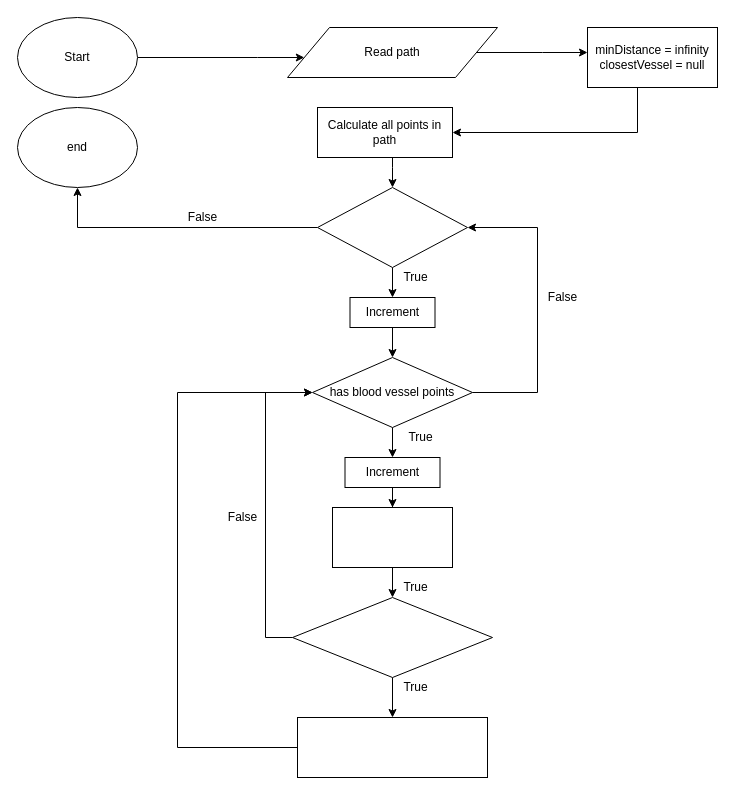
Some shapes in this 735 by 795 pixel diagram are drawn without their labels. Each missing label, with the centre of its shape:
"calculate distance between line point and blood vessel point" belongs at (x=392, y=537).
"distance < minDistance" belongs at (x=392, y=637).
"has path points" belongs at (x=392, y=227).
"minDistance = distance closetVessel = blood vessel point" belongs at (x=392, y=747).
